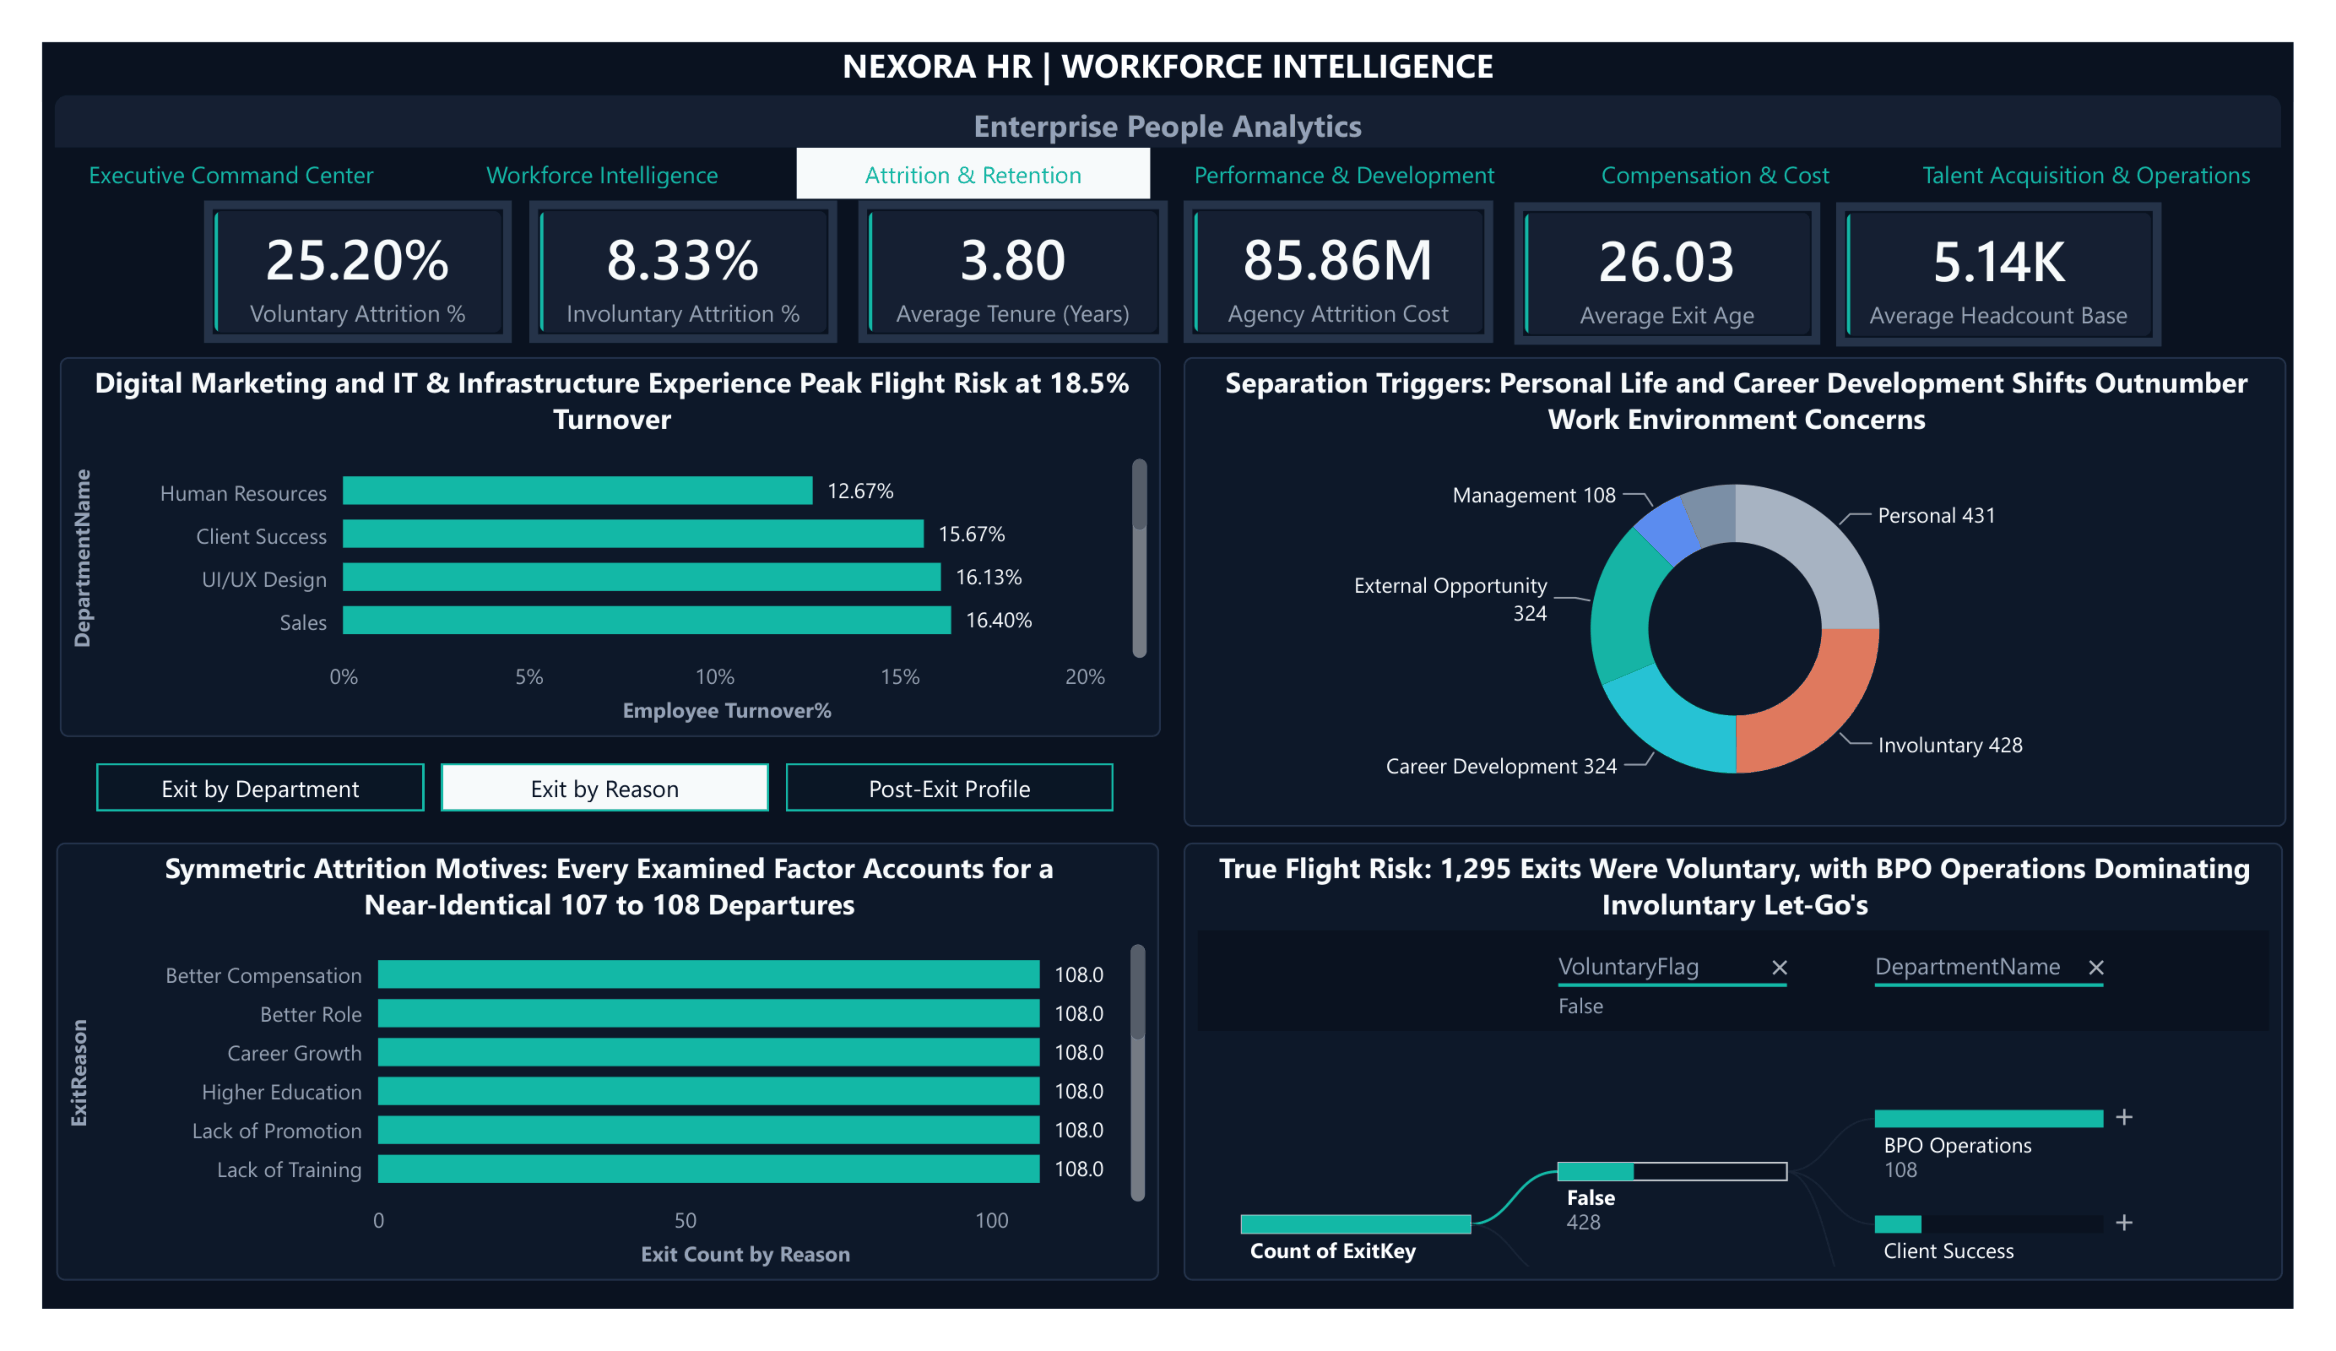

This screenshot's page, from the dashboard's own definition file:
{"tool":"powerbi","page":{"name":"Attrition & Retention","canvas":[1280,720],"ordinal":2},"visuals":[{"type":"shape","title":"NEXORA HR | WORKFORCE INTELLIGENCE","box":[7.1,0,1265.7,60],"z":0},{"type":"pageNavigator","box":[7.1,59.5,1255.7,29.8],"z":1000},{"type":"hundredPercentStackedColumnChart","title":"Strong Talent Pipeline: Over 70% of Departed Employees Maintain Rehire-Eligible Status","fields":{"Y":["_Measures.Exit Count"],"Category":["FactExit.RehireEligible"]},"box":[7.1,455.4,626.2,248.9],"z":1000,"group":"g1"},{"type":"cardVisual","fields":{"Data":["_Measures.Voluntary Attrition %"]},"box":[92.5,90.5,175,80.8],"z":2000},{"type":"cardVisual","fields":{"Data":["_Measures.Involuntary Attrition %"]},"box":[276.7,90.5,175.7,80.8],"z":3000},{"type":"cardVisual","fields":{"Data":["_Measures.Average Tenure (Years)"]},"box":[463.8,90.5,175.7,80.8],"z":4000},{"type":"cardVisual","fields":{"Data":["_Measures.Agency Attrition Cost"]},"box":[649.5,90.5,175.7,80.8],"z":5000},{"type":"cardVisual","fields":{"Data":["_Measures.Average Exit Age"]},"box":[836.5,91,174.8,81.2],"z":6000},{"type":"cardVisual","fields":{"Data":["_Measures.Average Headcount Base"]},"box":[1020.5,90.7,184.3,82.2],"z":7000},{"type":"clusteredBarChart","title":"Digital Marketing and IT & Infrastructure Experience Peak Flight Risk at 18.5% Turnover","fields":{"Category":["DimDepartment.DepartmentName"],"Y":["_Measures.Employee Turnover%"]},"box":[9.9,178.6,626.5,216.9],"z":8000},{"type":"donutChart","title":"Separation Triggers: Personal Life and Career Development Shifts Outnumber Work Environment Concerns","fields":{"Y":["_Measures.Exit Count"],"Category":["DimExitReason.ExitCategory"]},"box":[649.1,178.6,626.5,267.9],"z":9000},{"type":"bookmarkNavigator","box":[31.2,409.6,578.3,26.9],"z":10000},{"type":"group","id":"g1","title":"P3_ButtonPanel","box":[7.1,455,627.9,249.4],"z":11000},{"type":"decompositionTreeVisual","title":"True Flight Risk: 1,295 Exits Were Voluntary, with BPO Operations Dominating Involuntary Let-Go''s","fields":{"Analyze":["CountNonNull(FactExit.ExitKey)"],"ExplainBy":["DimExitReason.VoluntaryFlag","DimDepartment.DepartmentName","DimExitReason.ExitReason"]},"box":[649.1,455,625,249.4],"z":12000}]}

Visuals, with their boxes in screenshot pixels (x1, y1, x2, y2), scaled from the page's 1280x720 canvas onto the 2336x1351 screenshot:
"NEXORA HR | WORKFORCE INTELLIGENCE" shape: (13,0,2323,113)
pageNavigator: (13,112,2305,168)
"Strong Talent Pipeline: Over 70% of Departed Employees Maintain Rehire-Eligible Status" hundredPercentStackedColumnChart: (13,855,1156,1322)
cardVisual - _Measures.Voluntary Attrition %: (169,170,488,321)
cardVisual - _Measures.Involuntary Attrition %: (505,170,826,321)
cardVisual - _Measures.Average Tenure (Years): (846,170,1167,321)
cardVisual - _Measures.Agency Attrition Cost: (1185,170,1506,321)
cardVisual - _Measures.Average Exit Age: (1527,171,1846,323)
cardVisual - _Measures.Average Headcount Base: (1862,170,2199,324)
"Digital Marketing and IT & Infrastructure Experience Peak Flight Risk at 18.5% Turnover" clusteredBarChart: (18,335,1161,742)
"Separation Triggers: Personal Life and Career Development Shifts Outnumber Work Environment Concerns" donutChart: (1185,335,2328,838)
bookmarkNavigator: (57,769,1112,819)
"P3_ButtonPanel" group: (13,854,1159,1322)
"True Flight Risk: 1,295 Exits Were Voluntary, with BPO Operations Dominating Involuntary Let-Go''s" decompositionTreeVisual: (1185,854,2325,1322)
